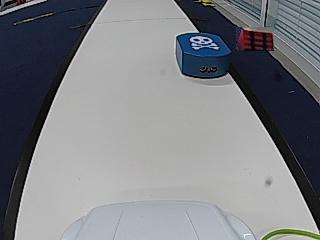danger: (190, 35, 218, 50)
